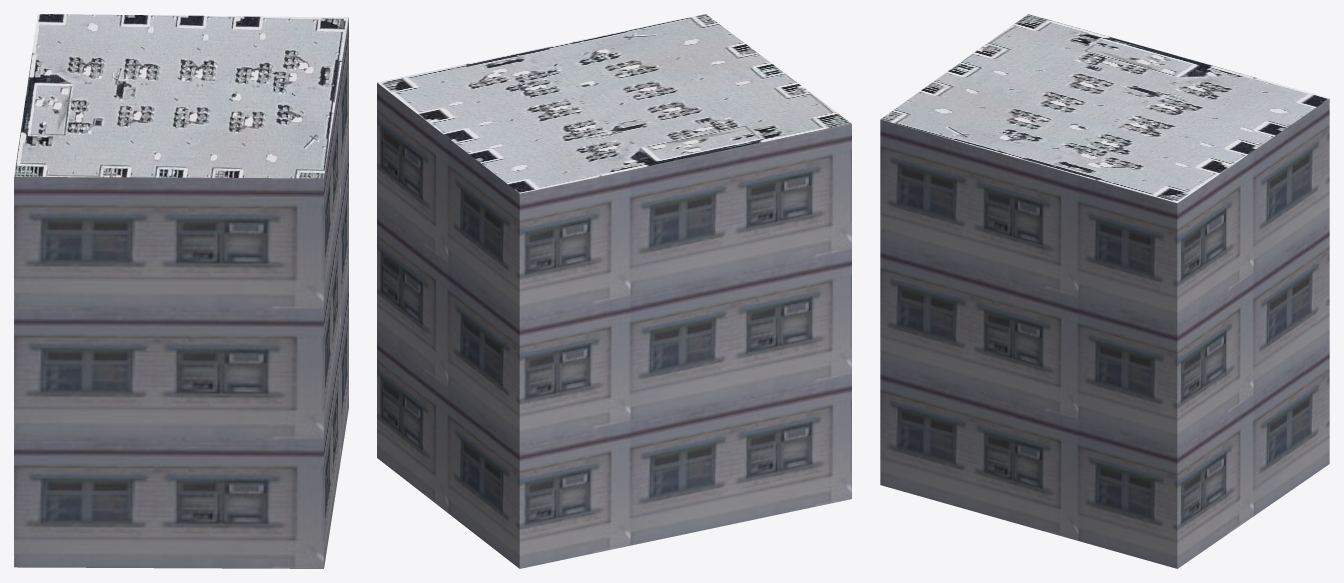
The model's file is ResTex__3829.fbx.
3 views of the same model, side by side, from view 1: azimuth 30°, elevation 25°; view 2: azimuth 150°, elevation 25°; view 3: azimuth 270°, elevation 25° (orthographic). The views are drawn at different scales.
Parts seen in each view (by area): view 1: CityEngineMaterial_1_m, CityEngineMaterial_4_m; view 2: CityEngineMaterial_1_m, CityEngineMaterial_4_m; view 3: CityEngineMaterial_1_m, CityEngineMaterial_4_m.
Boxes of the visible parts, <box> form: CityEngineMaterial_1_m: <box>14,18,348,568</box>; CityEngineMaterial_4_m: <box>14,14,348,178</box>; CityEngineMaterial_1_m: <box>377,83,851,568</box>; CityEngineMaterial_4_m: <box>377,14,851,193</box>; CityEngineMaterial_1_m: <box>880,98,1329,568</box>; CityEngineMaterial_4_m: <box>880,14,1329,203</box>.
Bounding box in the file's own units: 10 × 9 × 10.02.
2 materials, 2 textured.
